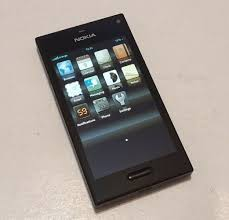nokia: (27, 9, 196, 212)
